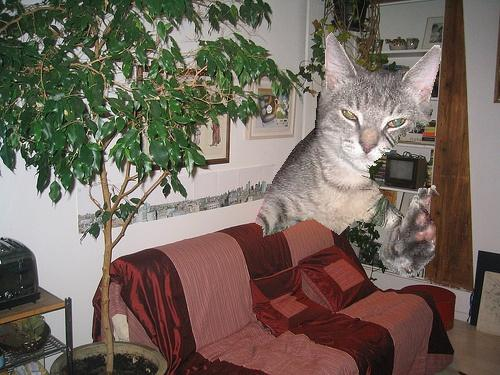tampered: (256, 33, 441, 277)
